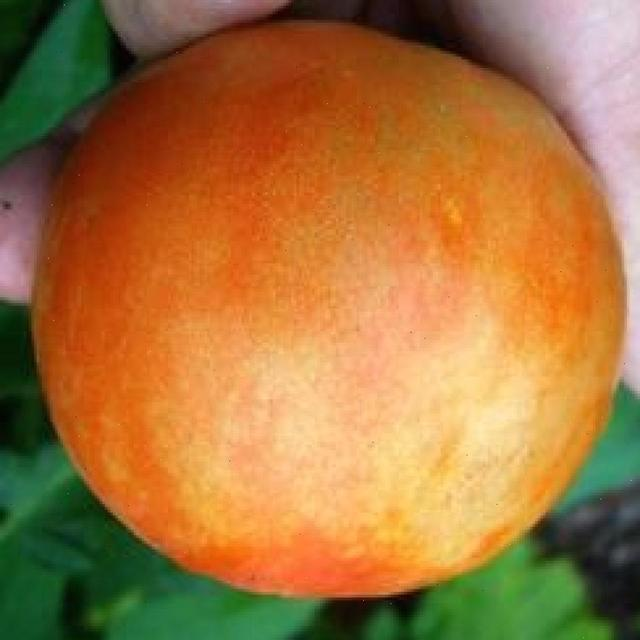Spotted wilt Virus Fruit: (20, 15, 421, 401)
